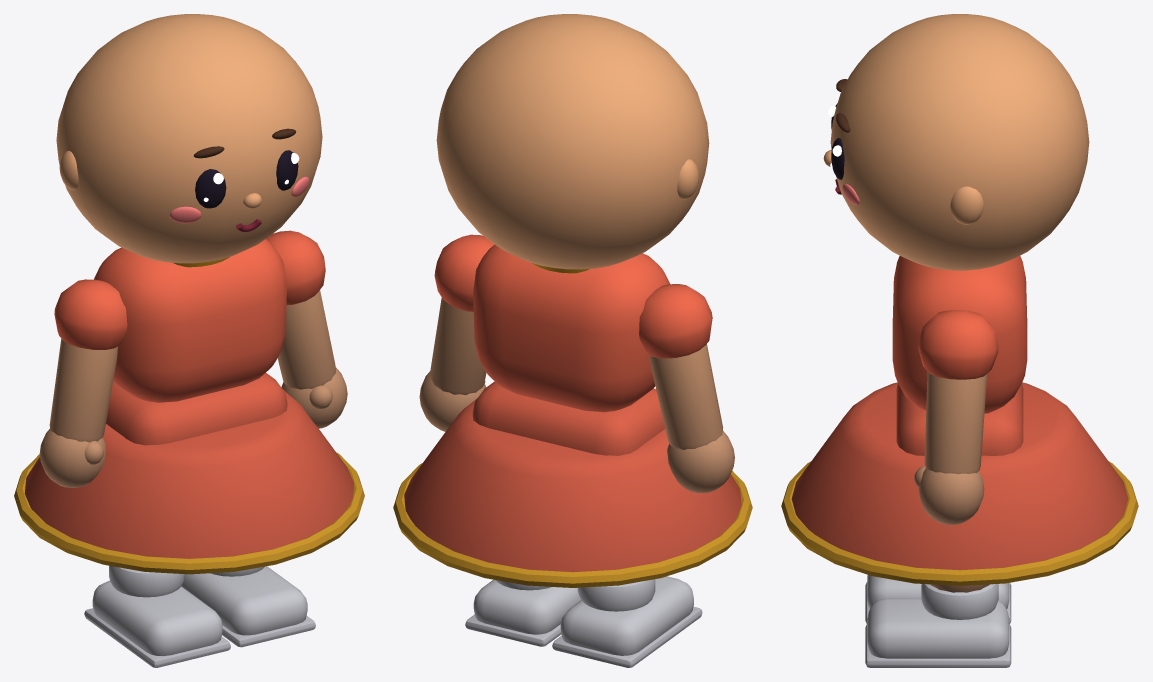
The model's file is body_adult_dress.glb.
3 renders of one model, left to right at view 1: azimuth 30°, elevation 25°; view 2: azimuth 150°, elevation 25°; view 3: azimuth 270°, elevation 25°, orthographic. The views are drawn at different scales.
Visible parts, largest first — view 1: Head, Hips, Torso, ArmR, LegR, ArmL, LegL; view 2: Head, Hips, Torso, ArmR, LegR, ArmL, LegL; view 3: Head, Hips, ArmL, Torso, LegL, LegR.
Boxes of the visible parts, box(x1,y1,x2,y2) form: Head: box(56, 14, 322, 263); Hips: box(14, 373, 364, 574); Torso: box(94, 239, 286, 402); ArmR: box(39, 279, 127, 487); LegR: box(84, 565, 230, 667); ArmL: box(266, 230, 347, 428); LegL: box(181, 566, 315, 647); Head: box(436, 14, 709, 269); Hips: box(393, 381, 752, 587); Torso: box(473, 244, 669, 412); ArmR: box(639, 284, 734, 493); LegR: box(552, 576, 702, 667); ArmL: box(419, 234, 494, 431); LegL: box(465, 579, 580, 646); Head: box(823, 14, 1089, 270); Hips: box(781, 382, 1138, 585); ArmL: box(914, 310, 998, 524); Torso: box(892, 256, 1027, 413); LegL: box(865, 584, 1011, 667); LegR: box(865, 575, 1011, 623).
Size of the model in its own units: 0.7536 by 1.4 by 0.7536.
